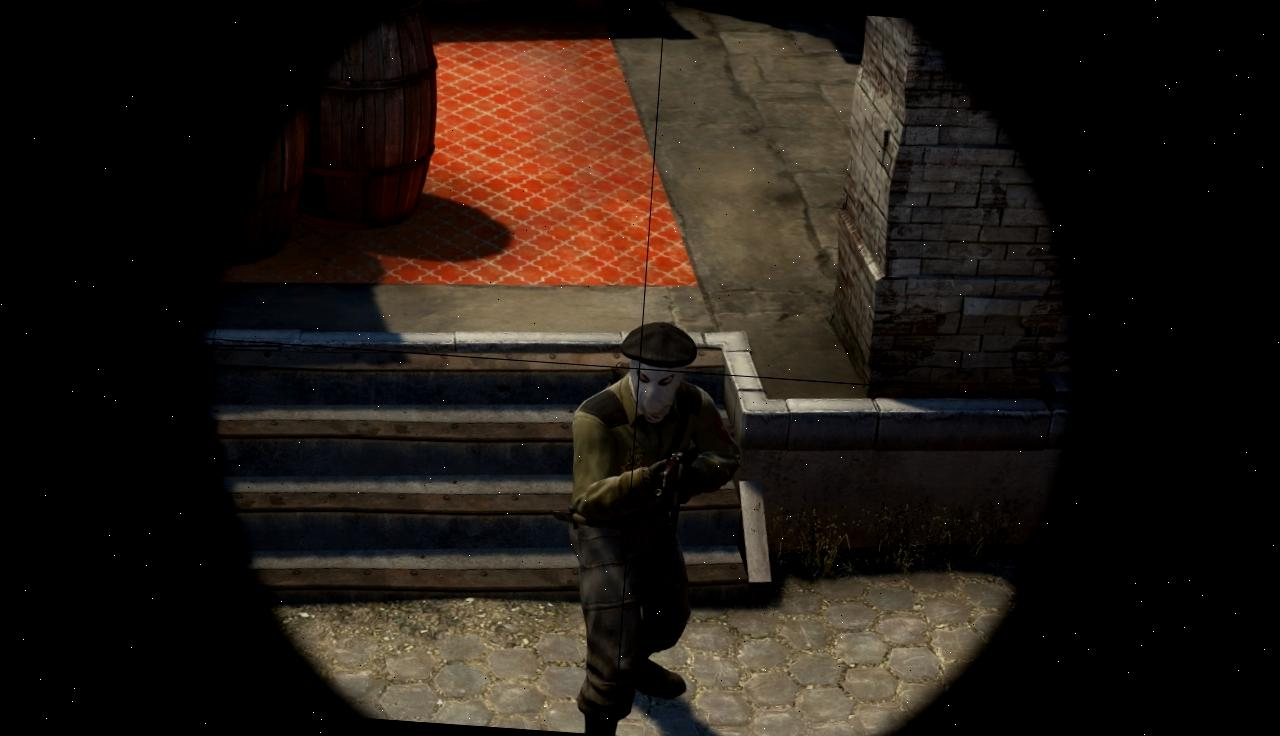tt: (568, 313, 721, 736)
tthead: (624, 330, 696, 422)
